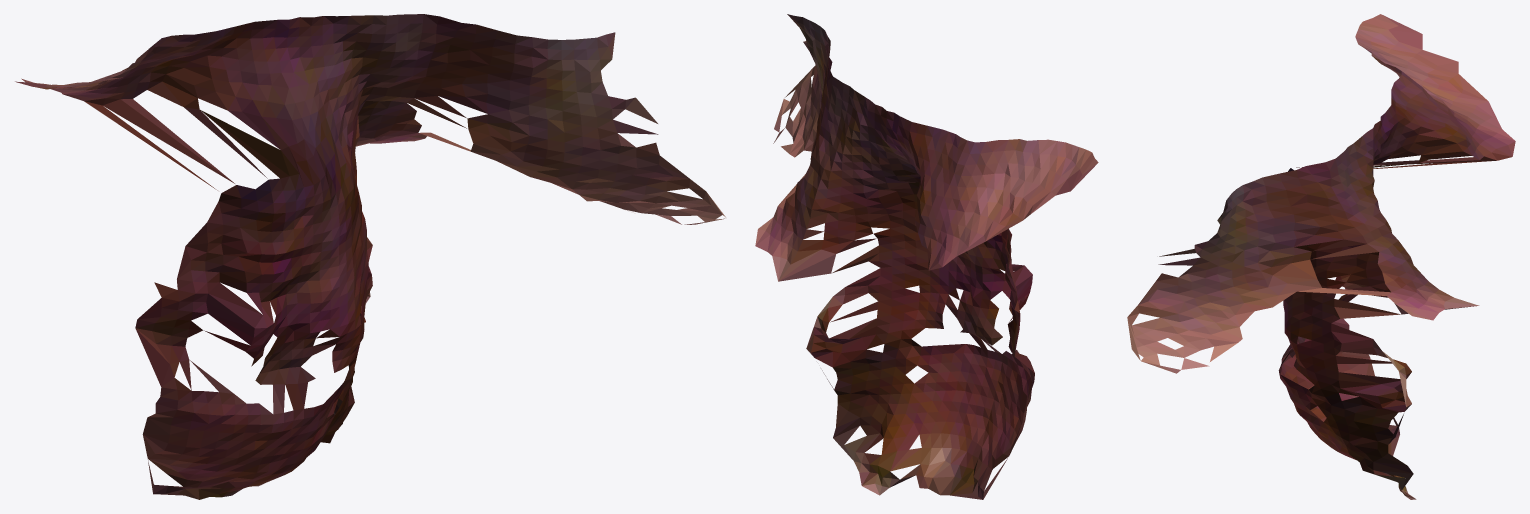
3 renders of one model, left to right at view 1: azimuth 30°, elevation 25°; view 2: azimuth 150°, elevation 25°; view 3: azimuth 270°, elevation 25°, orthographic. The views are drawn at different scales.
Parts seen in each view (by area): view 1: ofMesh; view 2: ofMesh; view 3: ofMesh.
Part boxes in pixels (x1,y1,x2,y2): ofMesh: (15, 14, 725, 499); ofMesh: (755, 14, 1098, 499); ofMesh: (1127, 14, 1515, 499).
Size of the model in its own units: 342 by 282 by 259.
Materials: 1 (1 with a texture image).
